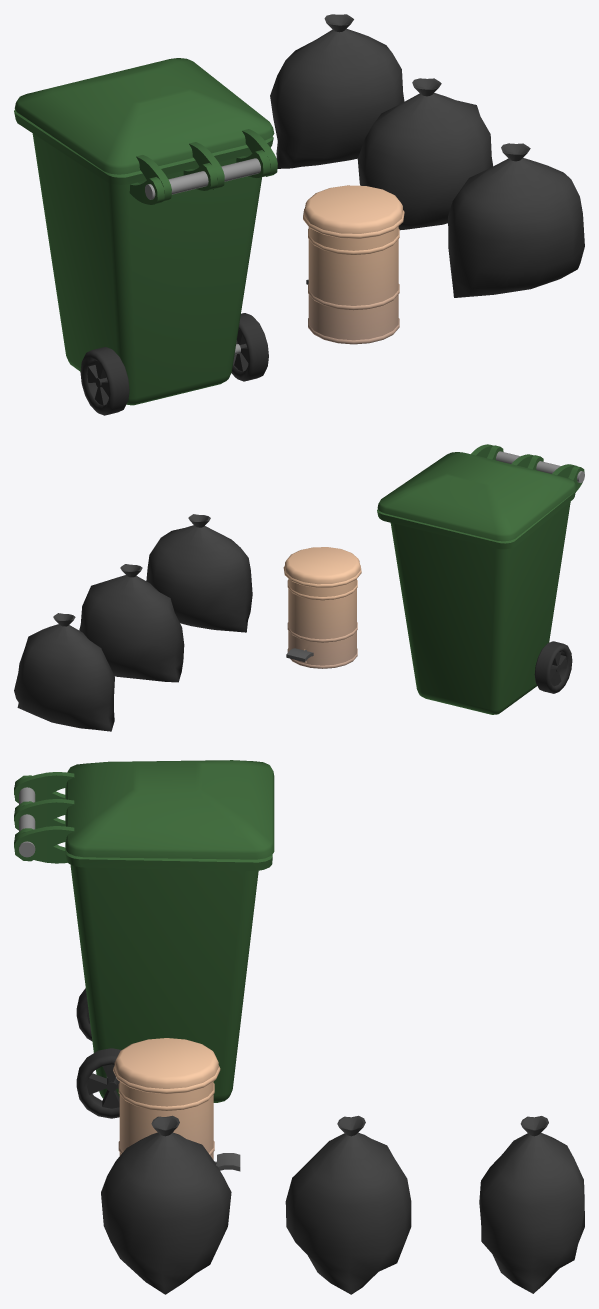
Rendered from trash.fbx.
3 renders of one model, top to bottom at view 1: azimuth 30°, elevation 25°; view 2: azimuth 150°, elevation 25°; view 3: azimuth 270°, elevation 25°, orthographic. The views are drawn at different scales.
Parts seen in each view (by area): view 1: trash_Big, cover_Big, trash_Bag_1, trash_Bag_3, trash_Bag_2, trash_Small, wheel, cover_Small; view 2: trash_Big, cover_Big, trash_Bag_1, trash_Bag_2, trash_Bag_3, trash_Small, cover_Small, wheel; view 3: trash_Big, cover_Big, trash_Bag_1, trash_Bag_2, trash_Bag_3, cover_Small, trash_Small, wheel.
Boxes of the visible parts, box(x1,y1,x2,y2) form: trash_Big: box(14, 109, 273, 405); cover_Big: box(14, 58, 277, 201); trash_Bag_1: box(448, 143, 584, 297); trash_Bag_3: box(270, 14, 404, 168); trash_Bag_2: box(357, 78, 493, 230); trash_Small: box(308, 226, 399, 344); wheel: box(80, 313, 268, 415); cover_Small: box(303, 185, 404, 238); trash_Big: box(377, 445, 584, 714); cover_Big: box(377, 444, 584, 541); trash_Bag_1: box(146, 514, 252, 632); trash_Bag_2: box(79, 564, 184, 682); trash_Bag_3: box(14, 613, 114, 731); trash_Small: box(287, 578, 357, 668); cover_Small: box(283, 547, 361, 587); wheel: box(534, 641, 572, 693); trash_Big: box(14, 775, 272, 1102); cover_Big: box(14, 760, 274, 861); trash_Bag_1: box(101, 1115, 231, 1294); trash_Bag_2: box(285, 1115, 411, 1294); trash_Bag_3: box(479, 1116, 584, 1293); cover_Small: box(113, 1038, 220, 1093); trash_Small: box(118, 1081, 214, 1159); wheel: box(76, 988, 121, 1118).
Bounding box in the file's own units: 8.38 × 7.65 × 4.48.
